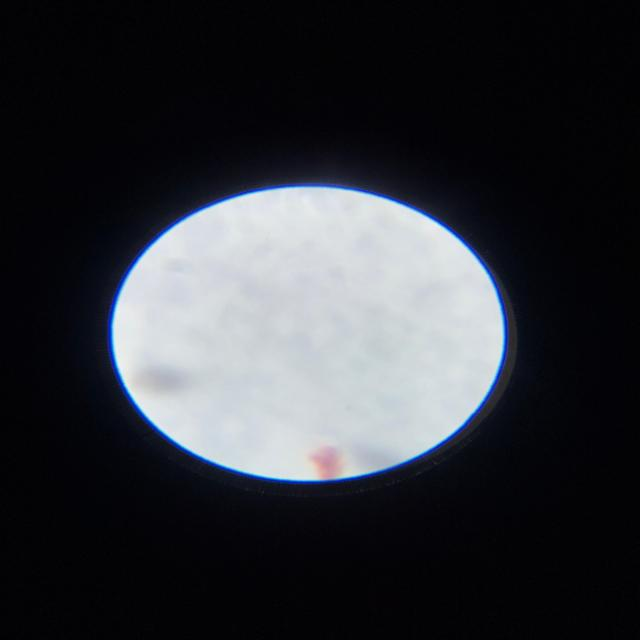microplastic_type_0: (309, 446, 344, 480)
